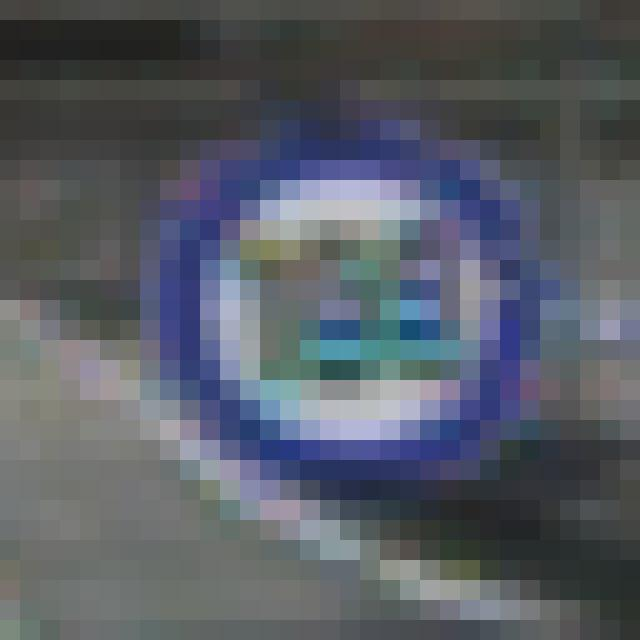SPEED LIMIT 100: (158, 119, 548, 496)
